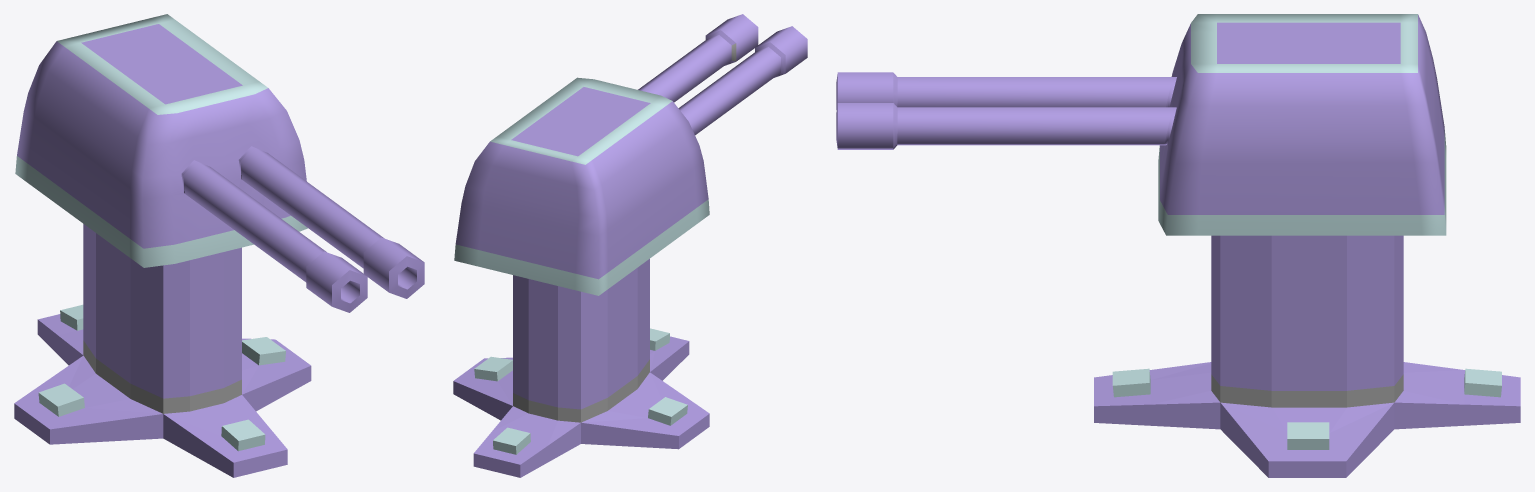
Rendered from turret enemy.fbx.
3 views of the same model, side by side, from view 1: azimuth 30°, elevation 25°; view 2: azimuth 150°, elevation 25°; view 3: azimuth 270°, elevation 25° (orthographic). The views are drawn at different scales.
Parts seen in each view (by area): view 1: Turret_Start_Uving1:turretStationary_top, Turret_Start_Uving1:turretStationary_Base; view 2: Turret_Start_Uving1:turretStationary_top, Turret_Start_Uving1:turretStationary_Base; view 3: Turret_Start_Uving1:turretStationary_top, Turret_Start_Uving1:turretStationary_Base.
Boxes of the visible parts, x1,y1,x2,y2 form: Turret_Start_Uving1:turretStationary_top: (15, 14, 424, 312); Turret_Start_Uving1:turretStationary_Base: (14, 224, 311, 477); Turret_Start_Uving1:turretStationary_top: (454, 14, 807, 295); Turret_Start_Uving1:turretStationary_Base: (453, 259, 709, 477); Turret_Start_Uving1:turretStationary_top: (836, 14, 1446, 235); Turret_Start_Uving1:turretStationary_Base: (1094, 235, 1520, 477).
Bounding box in the file's own units: 294 × 360 × 612.
